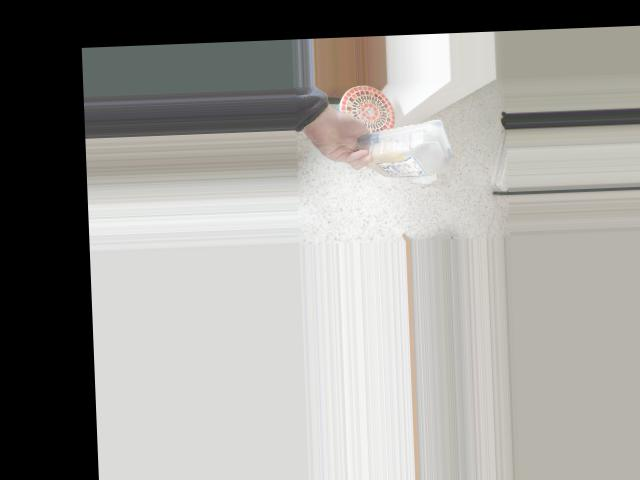cheese: (359, 123, 455, 179)
